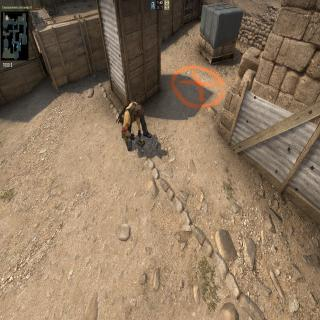T-Head: (133, 101, 143, 121)
